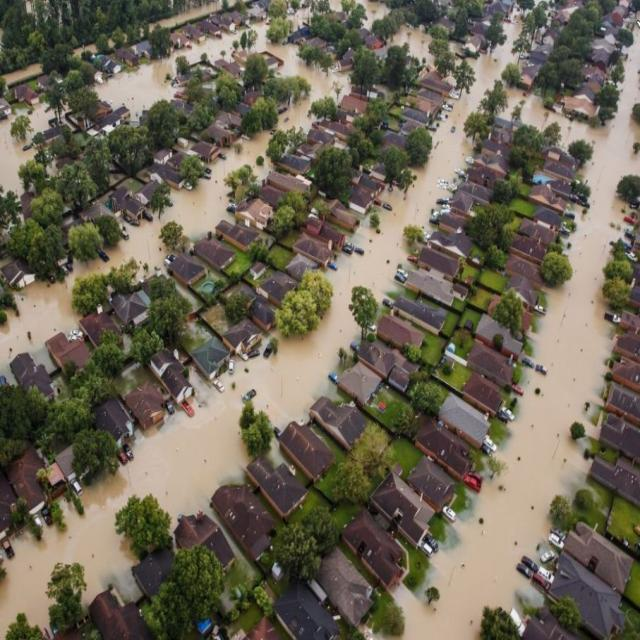flood: (0, 39, 513, 634), (401, 29, 640, 640), (0, 132, 271, 380), (95, 34, 239, 114), (254, 22, 350, 130), (0, 114, 33, 190), (394, 26, 434, 66), (356, 0, 391, 28), (28, 104, 52, 130), (330, 0, 341, 10)
house: (540, 560, 634, 640), (368, 473, 446, 546), (341, 511, 414, 588), (563, 524, 640, 588), (213, 486, 276, 560), (274, 419, 342, 480), (313, 554, 373, 622), (248, 457, 314, 518), (92, 584, 157, 640), (274, 584, 339, 640), (416, 419, 477, 478), (435, 392, 497, 448), (310, 396, 371, 450), (176, 512, 234, 565), (579, 460, 640, 509), (5, 455, 52, 518), (43, 327, 94, 380), (407, 456, 458, 509), (8, 346, 53, 406), (150, 350, 195, 406), (472, 314, 524, 357), (404, 268, 459, 308), (91, 400, 136, 446), (375, 312, 428, 351), (597, 412, 640, 460), (122, 384, 167, 428), (465, 371, 508, 416), (530, 172, 574, 214), (192, 335, 230, 382), (128, 551, 176, 588), (222, 318, 263, 359), (232, 194, 273, 232), (168, 251, 208, 289), (339, 363, 380, 400), (603, 381, 640, 422), (195, 237, 238, 270), (320, 197, 363, 230), (508, 252, 544, 290), (361, 341, 396, 380), (455, 178, 490, 216), (262, 170, 313, 196), (77, 310, 116, 344), (110, 288, 147, 323), (217, 218, 260, 248), (519, 216, 558, 248), (112, 190, 146, 226), (420, 246, 462, 275), (566, 86, 600, 120), (294, 234, 332, 264), (248, 298, 278, 332), (0, 259, 35, 288), (151, 165, 187, 192), (613, 356, 640, 388), (286, 254, 316, 281), (316, 225, 346, 252), (424, 76, 454, 102), (101, 106, 132, 130), (613, 331, 640, 358), (318, 120, 351, 142), (474, 152, 508, 173), (192, 141, 225, 162), (404, 106, 434, 129), (280, 153, 310, 176), (356, 176, 386, 198), (257, 281, 286, 303), (438, 210, 462, 235), (134, 182, 160, 205), (490, 120, 514, 144), (215, 124, 238, 149), (519, 64, 539, 92), (188, 59, 220, 76), (488, 0, 516, 19), (616, 308, 640, 330), (200, 19, 226, 37), (590, 48, 611, 70), (16, 85, 39, 105), (367, 32, 387, 52), (132, 41, 152, 60), (464, 34, 482, 54), (118, 48, 138, 66), (172, 33, 191, 50), (293, 26, 312, 42), (224, 64, 242, 80), (106, 59, 122, 74), (337, 58, 354, 72), (611, 8, 626, 20)
